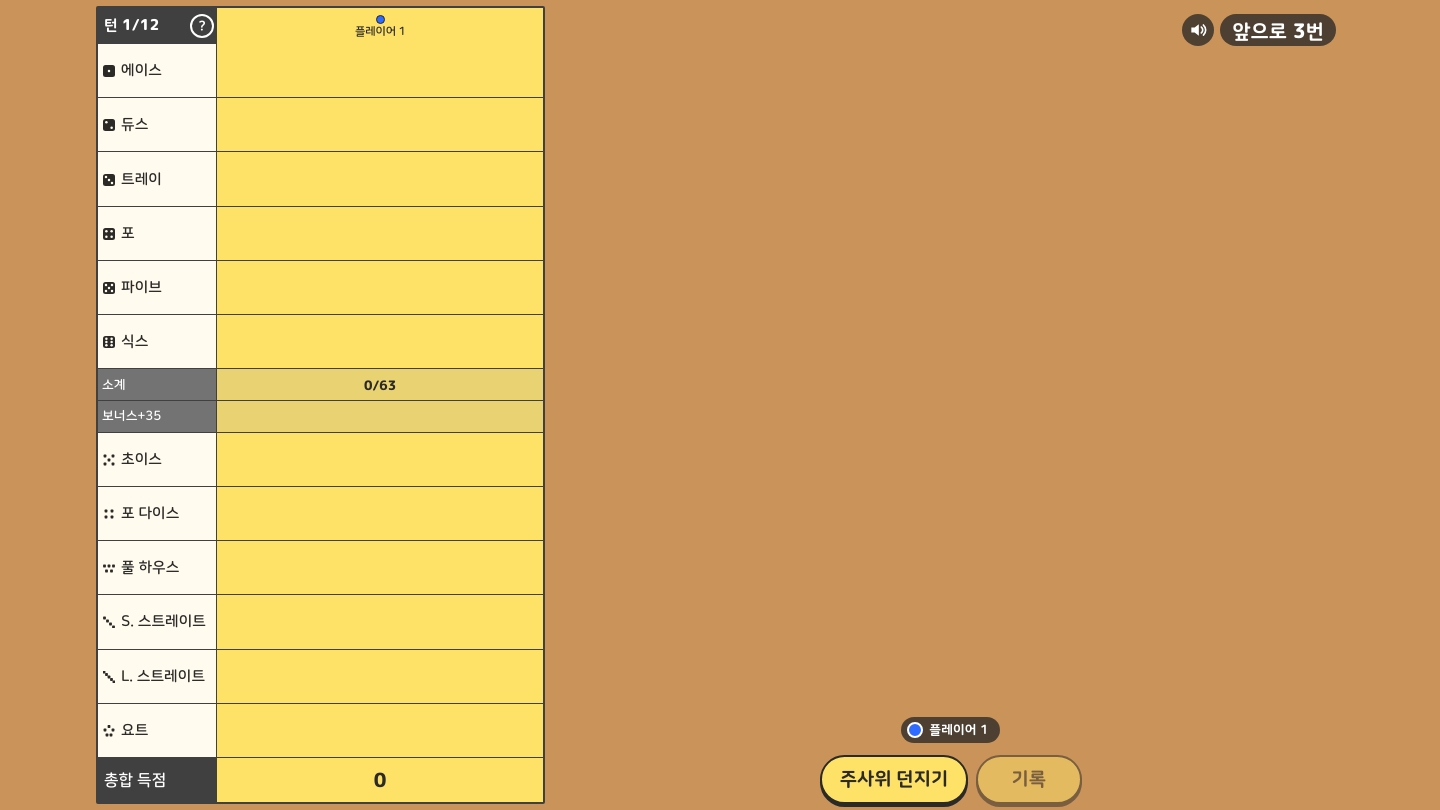
Test: 점수 미리보기와 기록 › 점수 미리보기는 굴러가는 동안 숨어 있다가 주사위가 멈추는 순간 나타난다
The width and height of the screenshot is (1440, 810).
Click the button "주사위 던지기". click: (894, 780)
box: [820, 755, 968, 804]
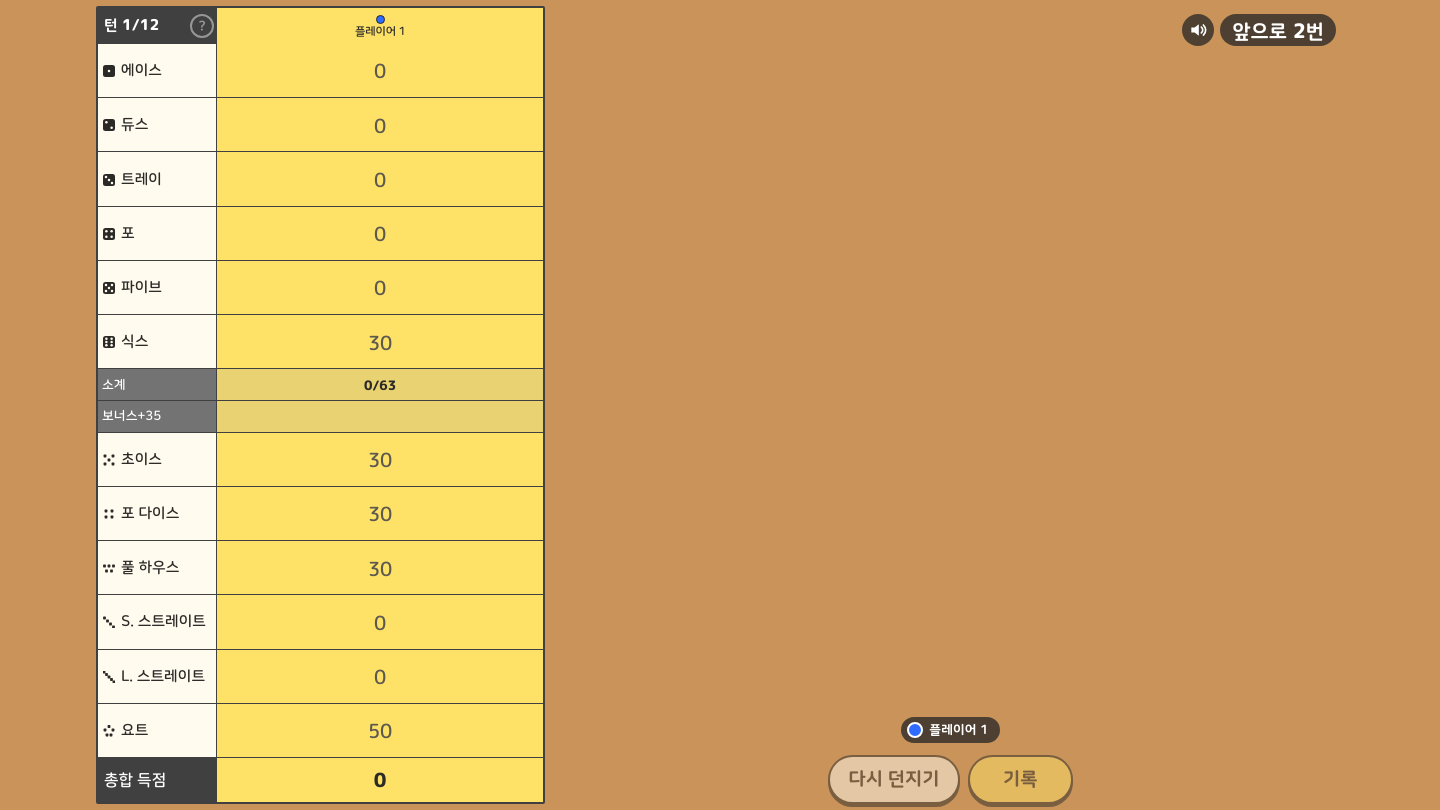
Check: the text "50" is shown, box [216, 704, 543, 758]
